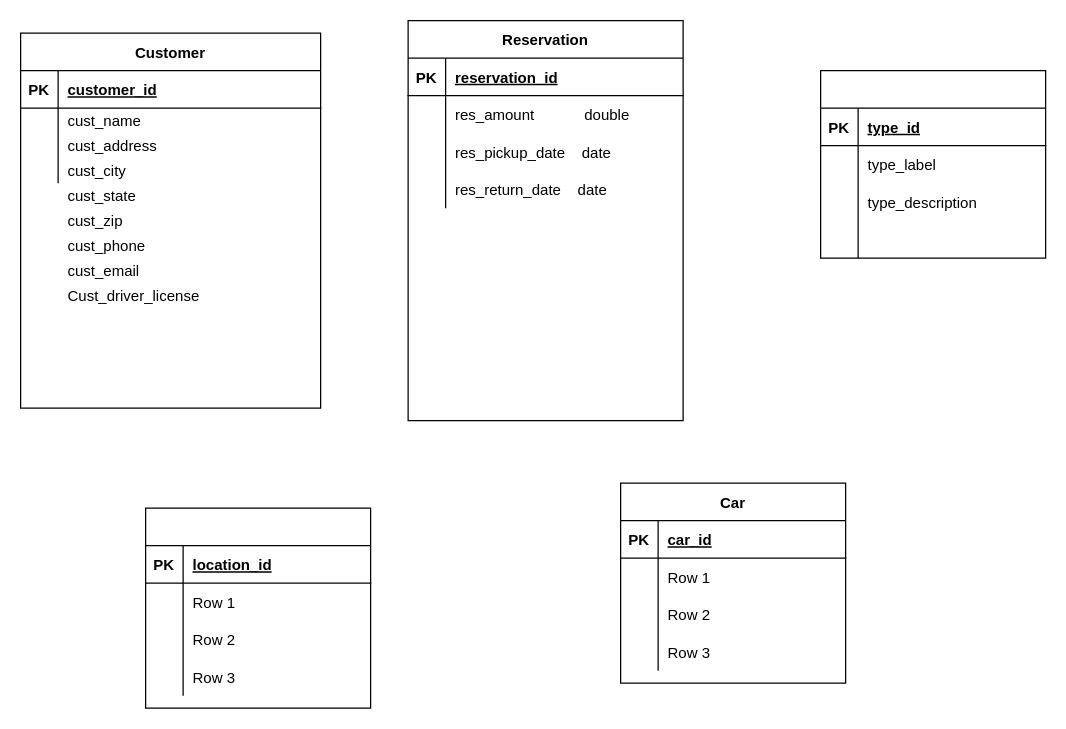
Some shapes in this 1066 by 729 pixel diagram are drawn without their labels. The box of each missing label's shape, as (x1, y1, x2, y2) in pixels:
Car Type: (819, 69, 1046, 258)
Rental Location: (144, 507, 371, 708)
